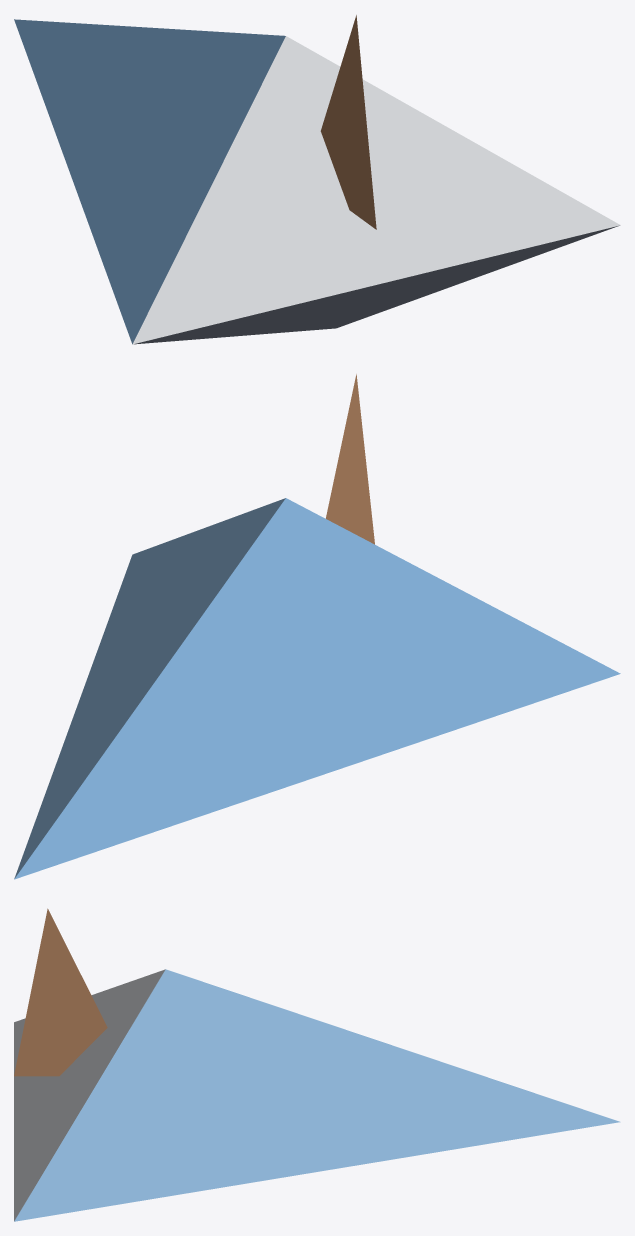
The model's file is ship.glb.
3 views of the same model, one above another, from view 1: azimuth 30°, elevation 25°; view 2: azimuth 150°, elevation 25°; view 3: azimuth 270°, elevation 25° (orthographic). The views are drawn at different scales.
Visible parts, largest first — view 1: hull, fin; view 2: hull, fin; view 3: hull, fin.
Boxes of the visible parts, x1=… form: hull: x1=14, y1=19, x2=620, y2=344; fin: x1=320, y1=15, x2=376, y2=229; hull: x1=14, y1=498, x2=620, y2=879; fin: x1=325, y1=374, x2=374, y2=544; hull: x1=14, y1=969, x2=620, y2=1221; fin: x1=14, y1=908, x2=107, y2=1076.
Bounding box in the file's own units: 1.4 × 0.9 × 1.8.
